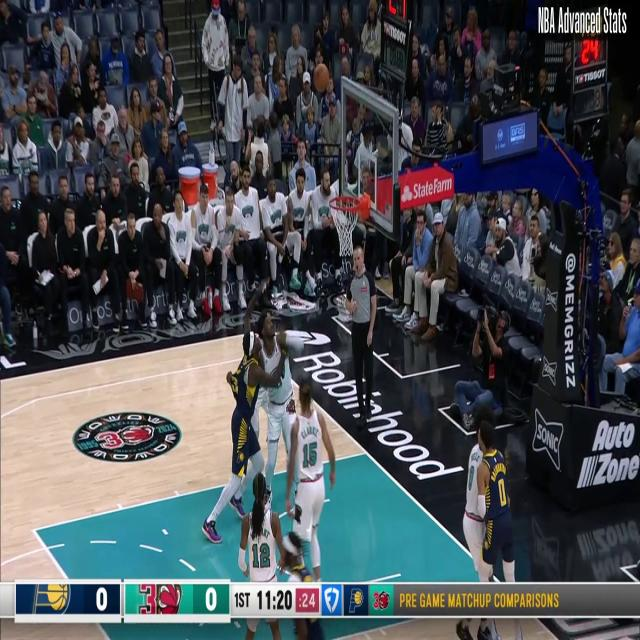ball: (314, 63, 329, 92)
judge: (346, 246, 379, 428)
player: (198, 322, 287, 547), (474, 418, 523, 638), (448, 420, 493, 640), (286, 386, 334, 582), (256, 314, 300, 513), (239, 480, 294, 638)
